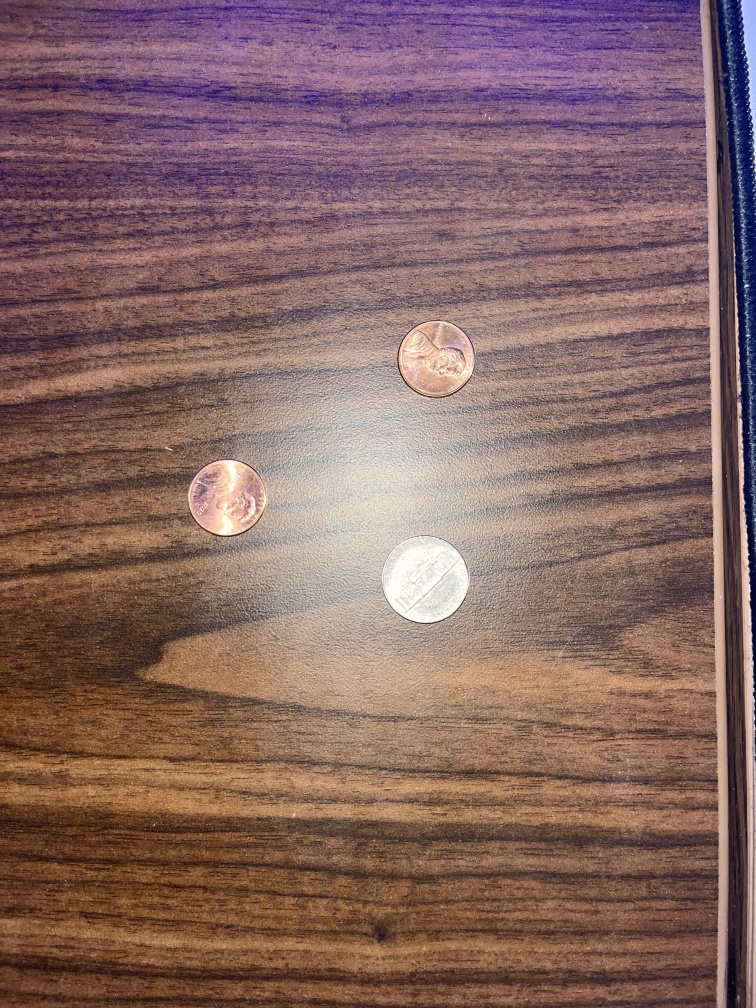nickel: (376, 529, 479, 632)
penny: (182, 454, 271, 548), (389, 316, 480, 405)
